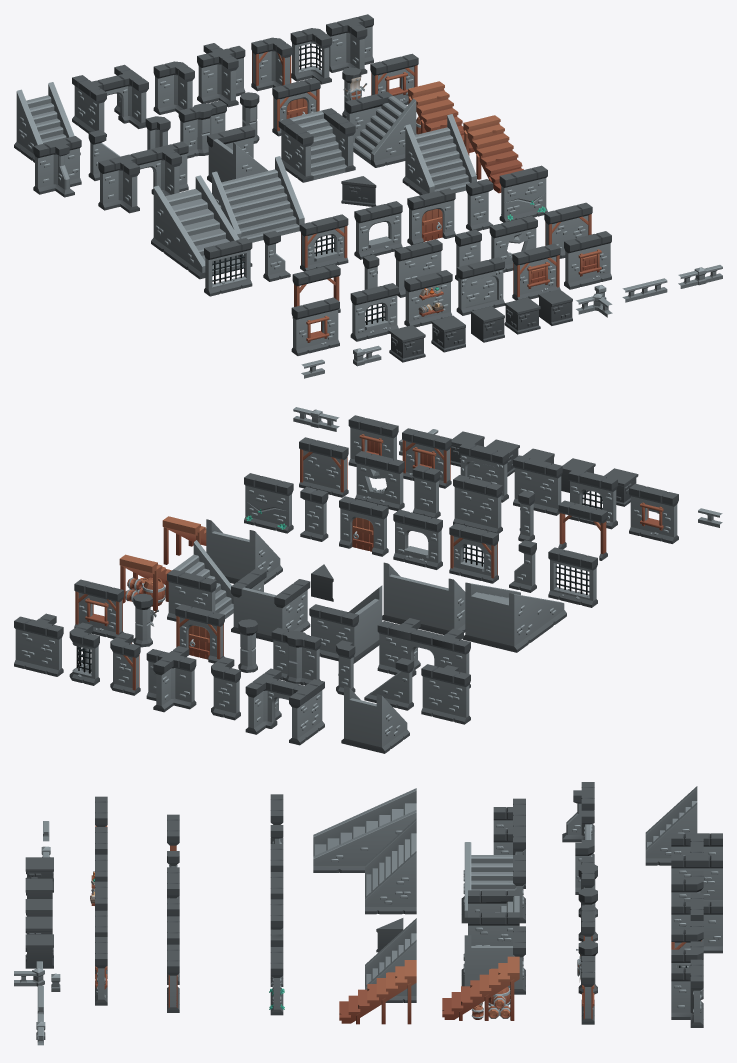
File: walls_dungeon_game_assets.glb
3 views of the same model, one above another, from view 1: azimuth 30°, elevation 25°; view 2: azimuth 150°, elevation 25°; view 3: azimuth 270°, elevation 25° (orthographic). The views are drawn at different scales.
Parts seen in each view (by area): view 1: stairs_long, stairs_wide, stairs_walled, stairs, wall_doorway_Tsplit, stairs_wall_right, wall_doorway_sides, stairs_narrow, stairs_wood, wall_crossing, wall_Tsplit_sloped, stairs_wall_left (+39 smaller); view 2: stairs_long, stairs_wide, wall_doorway_sides, stairs_walled, wall_doorway_Tsplit, stairs_wall_left, stairs_wall_right, stairs_narrow, stairs, wall_crossing, wall_Tsplit, wall_Tsplit_sloped (+37 smaller); view 3: stairs_long, stairs_wide, stairs_wood_decorated, stairs_wall_left, wall_doorway_sides, stairs_walled, stairs_wood, stairs_narrow, stairs_wall_right, wall_crossing, stairs, wall_Tsplit (+24 smaller).
Boxes of the visible parts, x1,y1,x2,y2 form: stairs_long: (151,175,252,279); stairs_wide: (212,156,304,242); stairs_walled: (278,108,355,182); stairs: (402,114,476,195); wall_doorway_Tsplit: (98,141,188,213); stairs_wall_right: (345,91,416,167); wall_doorway_sides: (72,64,148,136); stairs_narrow: (14,82,80,162); stairs_wood: (463,115,523,193); wall_crossing: (197,43,245,107); wall_Tsplit_sloped: (33,136,81,197); stairs_wall_left: (207,125,268,182); stairs_long: (462,582,566,652); stairs_wide: (382,562,465,634); wall_doorway_sides: (245,668,324,745); stairs_walled: (231,568,310,641); wall_doorway_Tsplit: (377,618,470,688); stairs_wall_left: (309,585,382,663); stairs_wall_right: (167,540,233,621); stairs_narrow: (341,686,409,753); stairs: (206,519,282,584); wall_crossing: (146,646,196,712); wall_Tsplit: (14,613,63,676); wall_Tsplit_sloped: (421,664,470,724); stairs_long: (313,788,416,872); stairs_wide: (365,818,416,914); stairs_wood_decorated: (442,956,519,1020); stairs_wall_left: (461,842,525,923); wall_doorway_sides: (671,833,722,901); stairs_walled: (468,890,519,945); stairs_wood: (339,960,416,1024); stairs_narrow: (645,786,697,865); stairs_wall_right: (461,926,525,994); wall_crossing: (671,893,722,959); stairs: (365,918,416,1002); wall_Tsplit: (671,959,703,1027).
Size of the model in its own units: 40.45 by 5.1 by 55.04.
55 materials, 55 textured.
